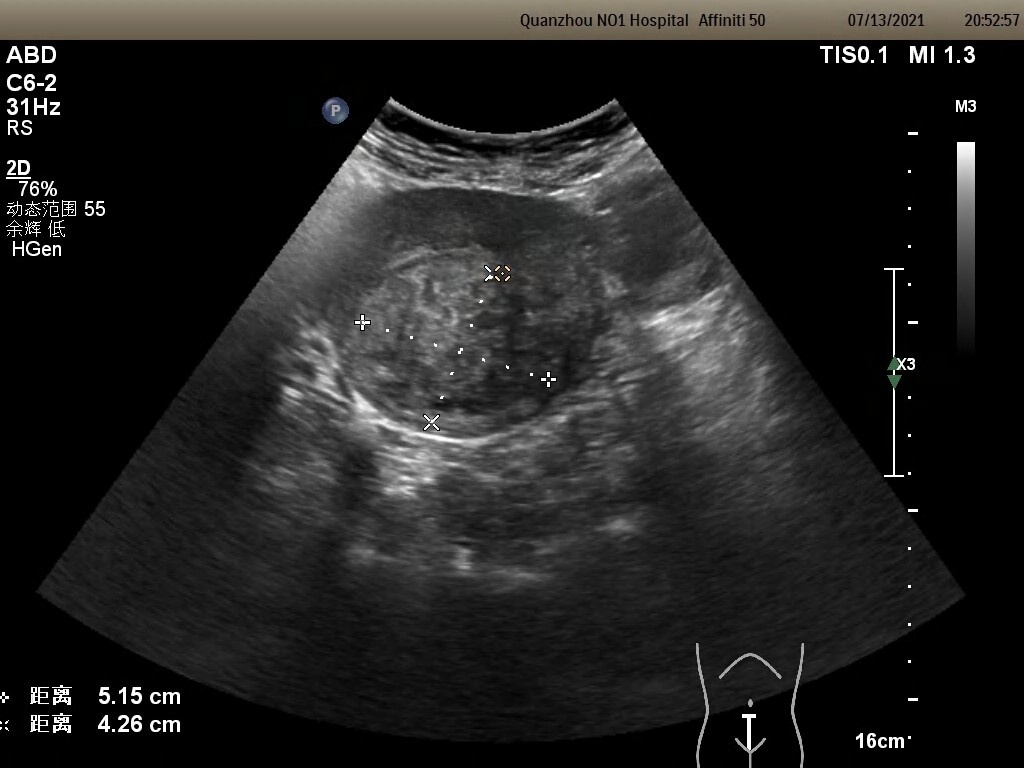肌瘤: (358, 270, 555, 422)
